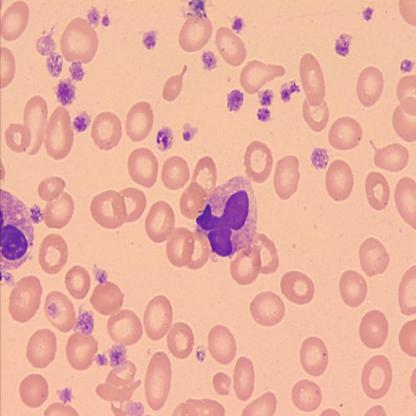Segmented neutrophil: (192, 173, 262, 261)
